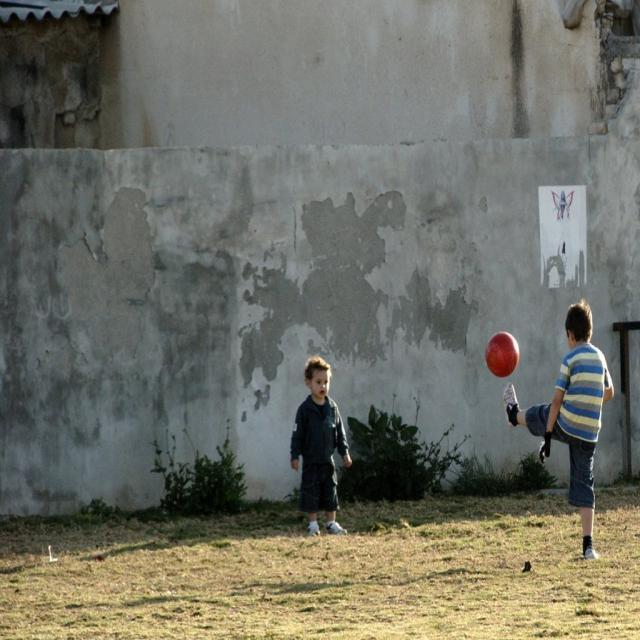football: (475, 324, 534, 377)
